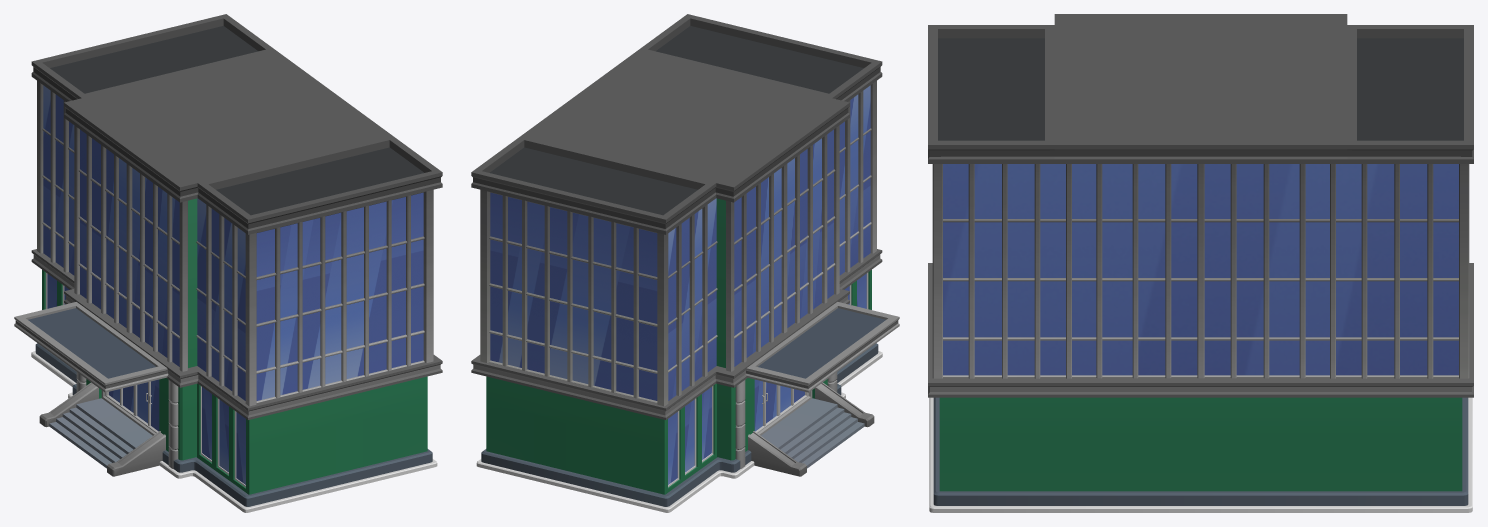
The model's file is Building_17_1_FF.fbx.
3 renders of one model, left to right at view 1: azimuth 30°, elevation 25°; view 2: azimuth 150°, elevation 25°; view 3: azimuth 270°, elevation 25°, orthographic. The views are drawn at different scales.
Visible parts, largest first — view 1: Building_17_1_FF; view 2: Building_17_1_FF; view 3: Building_17_1_FF.
Part boxes in pixels (<box>): Building_17_1_FF: <box>14,14,442,512</box>; Building_17_1_FF: <box>471,14,899,512</box>; Building_17_1_FF: <box>928,14,1473,512</box>.
Size of the model in its own units: 857 by 875 by 1168.
